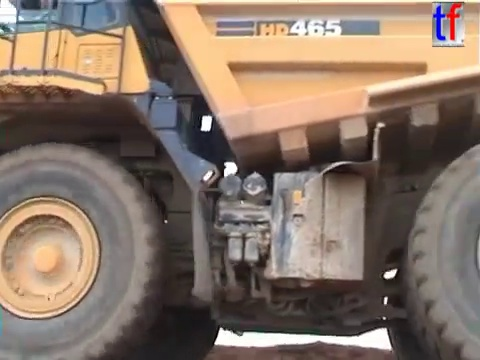truck: (1, 1, 480, 360)
